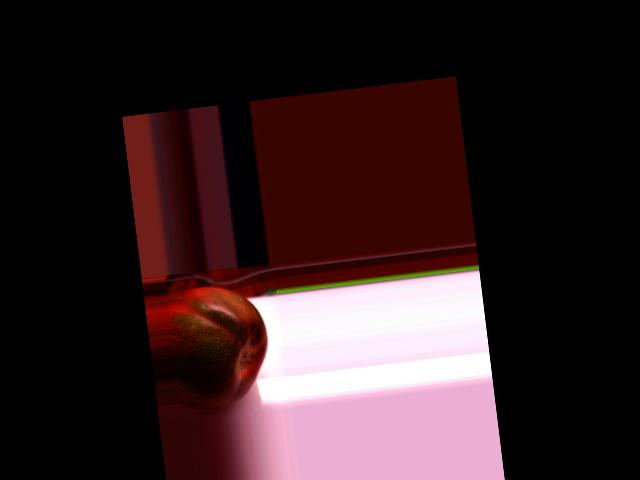tomato: (165, 279, 274, 412)
